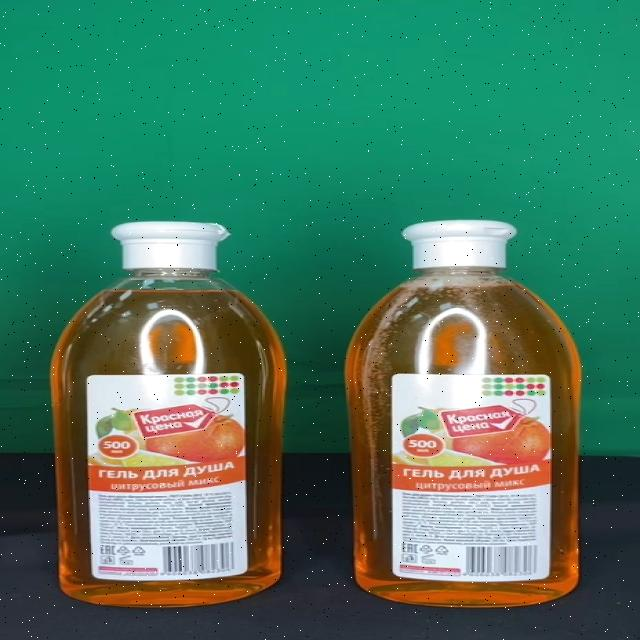Bottle: (342, 220, 582, 606), (50, 219, 288, 607)
Cap: (110, 222, 230, 270), (401, 221, 518, 268)
